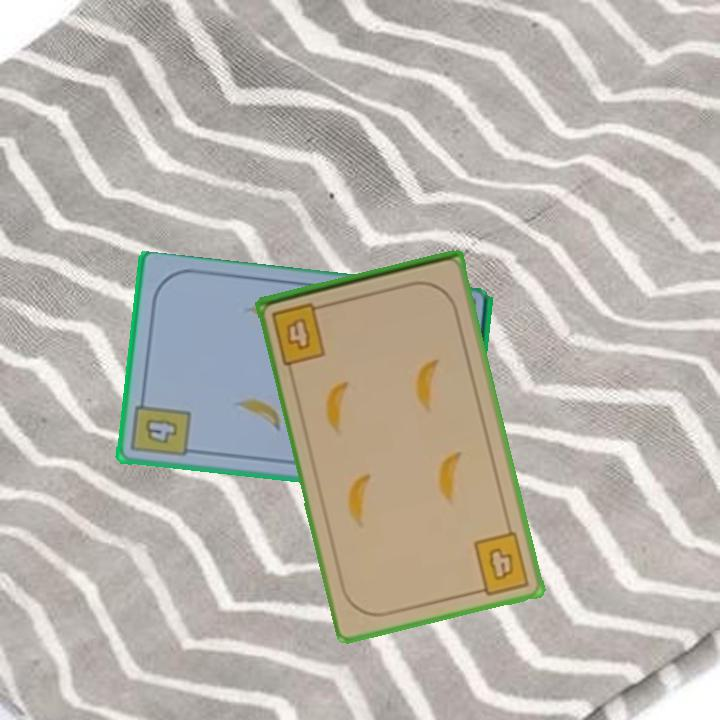4b: (128, 392, 193, 460), (268, 299, 332, 368), (470, 528, 533, 598)
